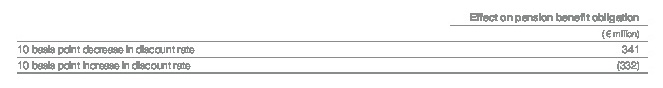table: (0, 0, 663, 88)
